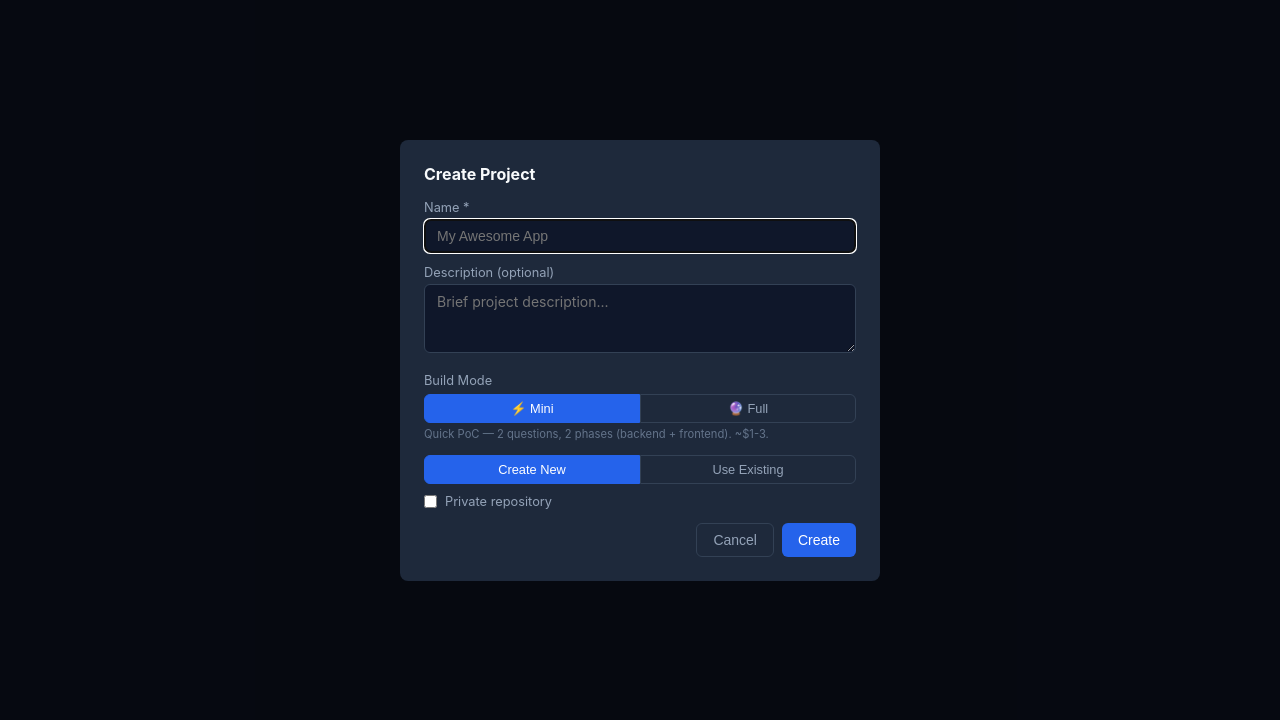
CreateProjectModal › shows error when submitting empty name
The image size is (1280, 720).
Click the button with test id "create-project-submit".
click(819, 540)  # box [782,522,856,556]
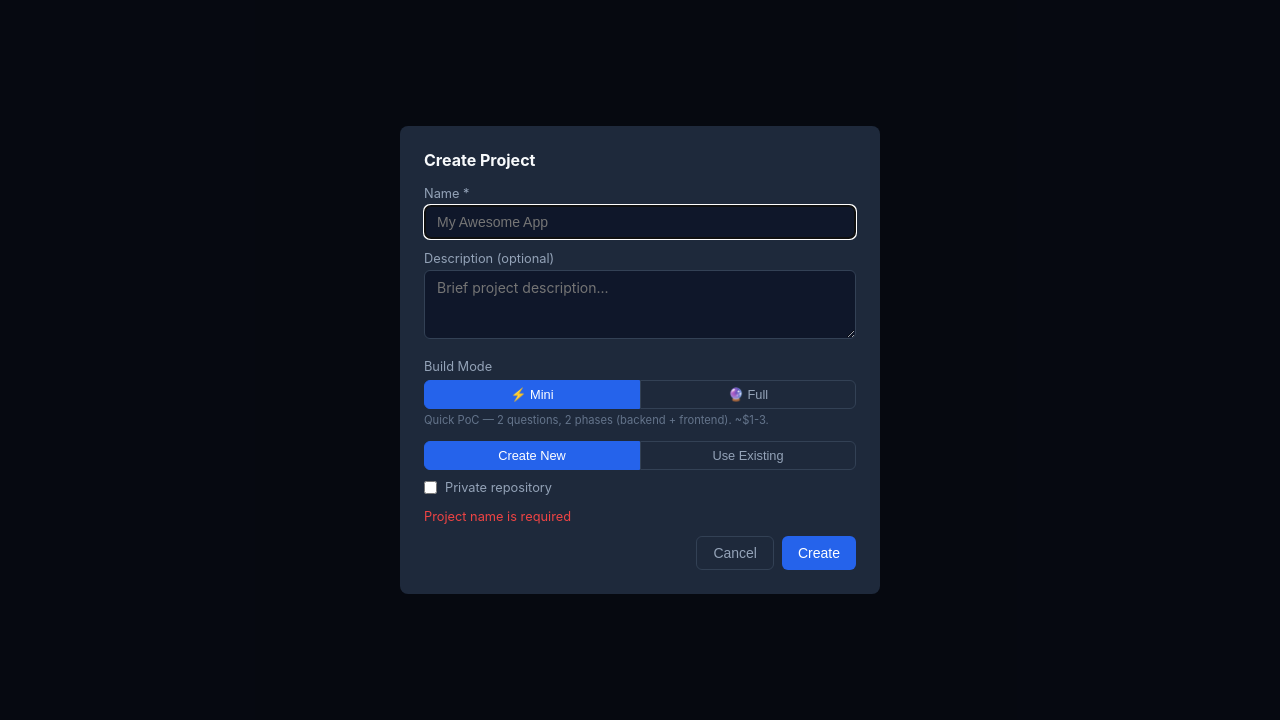
Result: the text "Project name is required" is shown at [424,509,571,524]
